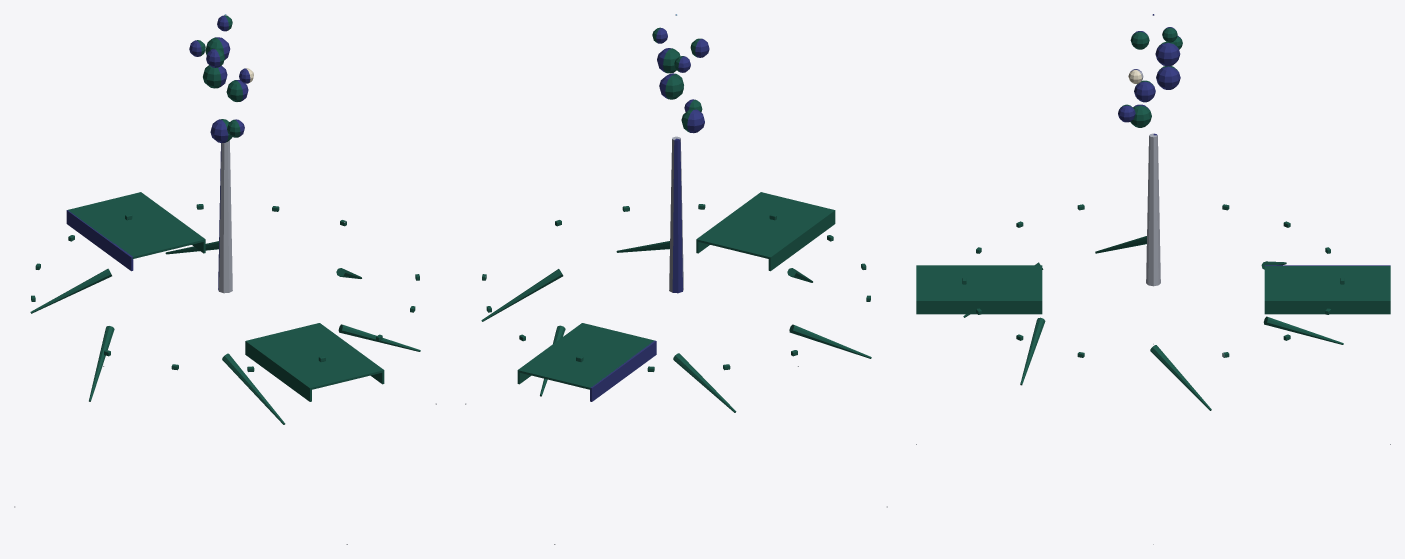
File: chunk_es_path_orchard.fbx
3 renders of one model, left to right at view 1: azimuth 30°, elevation 25°; view 2: azimuth 150°, elevation 25°; view 3: azimuth 270°, elevation 25°, orthographic. The views are drawn at different scales.
Parts seen in each view (by area): view 1: ES_PATH_ORCHARD; view 2: ES_PATH_ORCHARD; view 3: ES_PATH_ORCHARD.
Part boxes in pixels (x1=…): ES_PATH_ORCHARD: x1=14, y1=14, x2=436, y2=544; ES_PATH_ORCHARD: x1=465, y1=14, x2=887, y2=544; ES_PATH_ORCHARD: x1=916, y1=14, x2=1390, y2=544.
Bounding box in the file's own units: 256 × 256 × 256.
